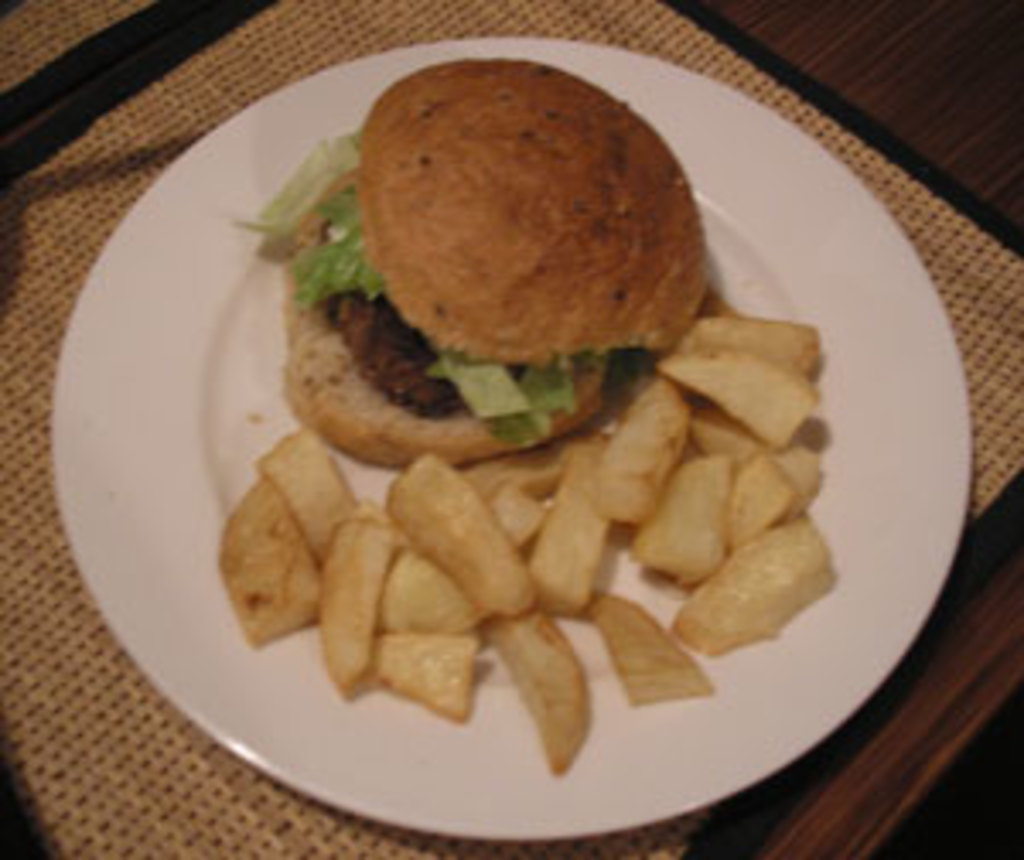Hamburger: (228, 58, 713, 470)
